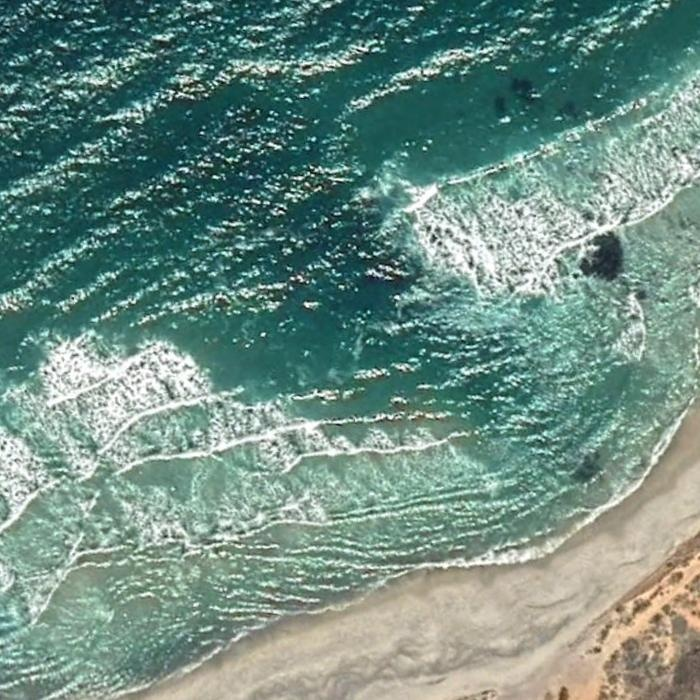rip_current: (126, 174, 640, 517)
